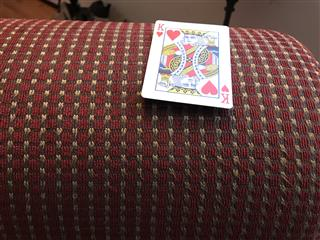KingOfHearts: (140, 19, 233, 109)
